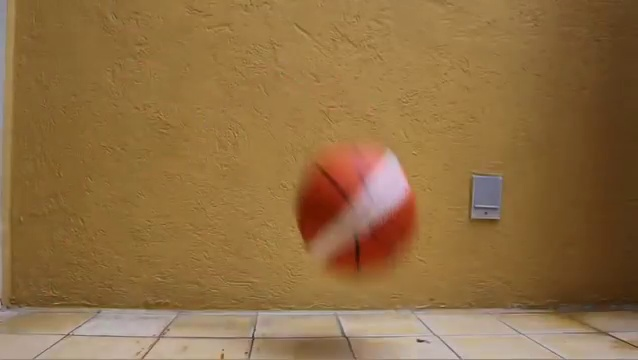ball: (289, 142, 420, 283)
